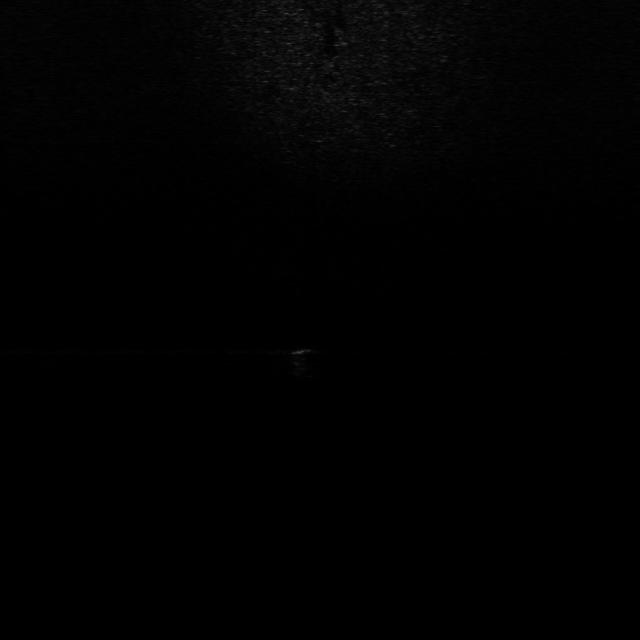human body: (284, 335, 318, 390)
